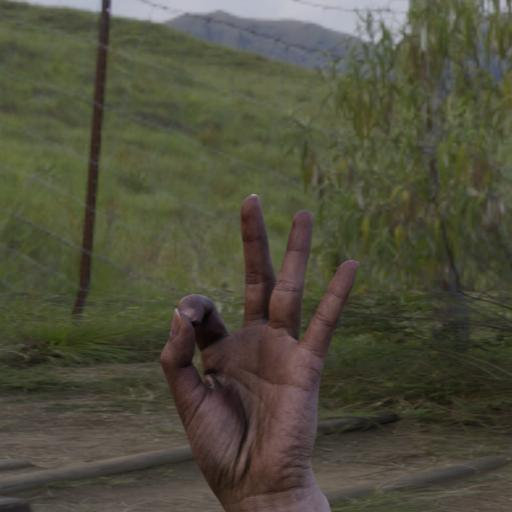F: (157, 191, 365, 510)
